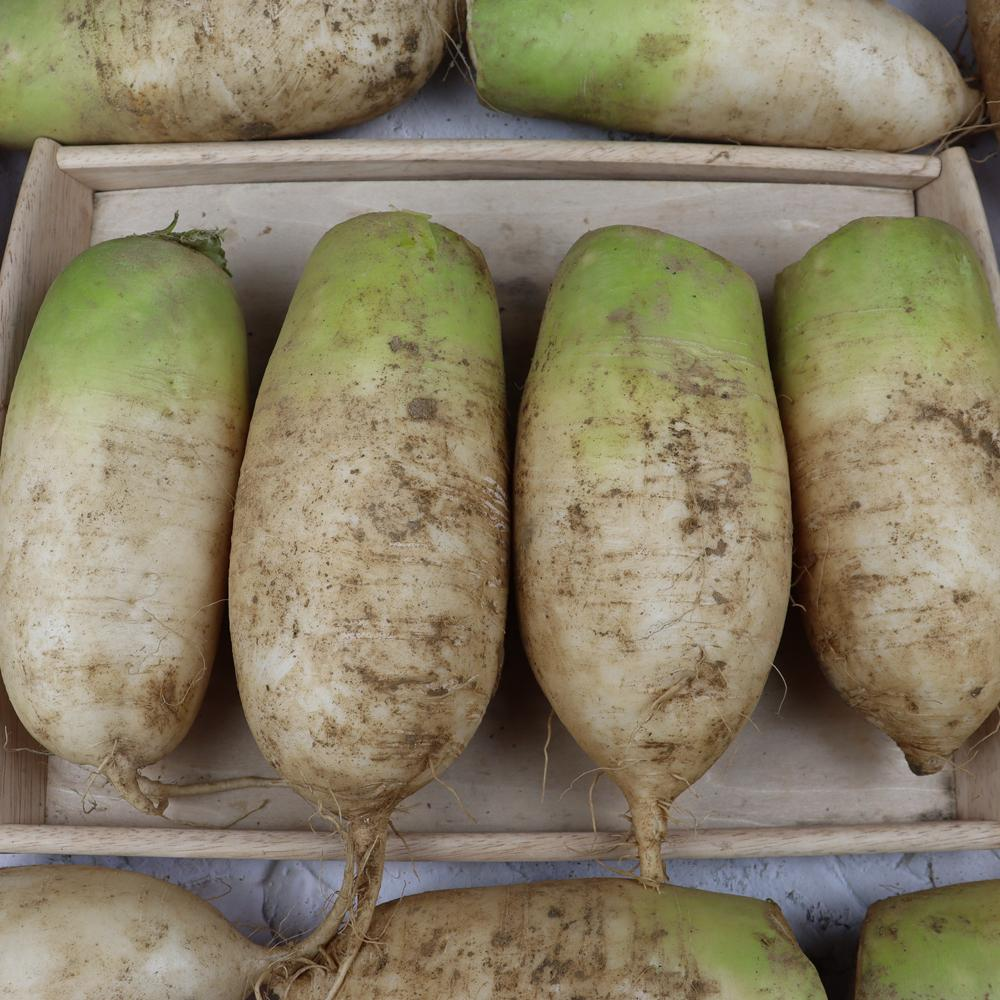radish: (398, 380, 752, 1000), (828, 422, 1000, 1000), (854, 416, 1000, 1000)
